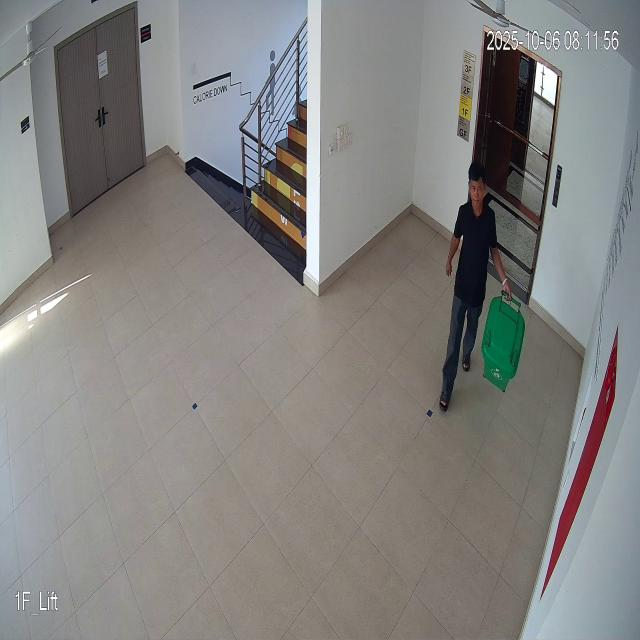face: (466, 154, 495, 217)
